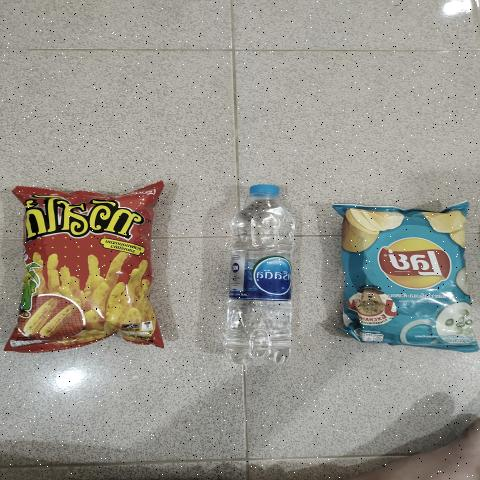crystal: (218, 181, 294, 363)
lay_blue: (347, 211, 456, 339)
twisco: (33, 202, 140, 328)
